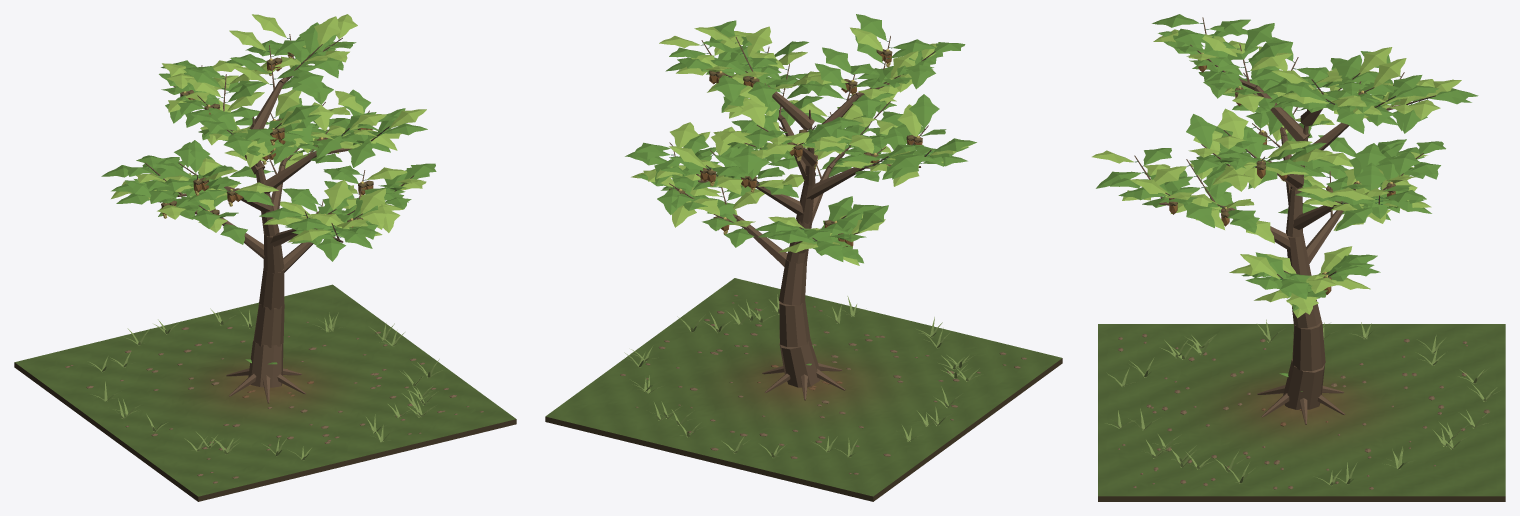
The model's file is oak-tree.glb.
The picture shows the model from 3 angles, left to right: view 1: azimuth 30°, elevation 25°; view 2: azimuth 150°, elevation 25°; view 3: azimuth 270°, elevation 25°; orthographic projection. The views are drawn at different scales.
Visible parts, largest first — view 1: Static_mesh, TreeTrunk_mesh, OakLeaves.033_mesh, OakLeaves.032_mesh, OakLeaves.025_mesh, OakLeaves.023_mesh, OakLeaves.011_mesh, OakLeaves.022_mesh, OakLeaves.003_mesh, OakLeaves.017_mesh, OakLeaves.021_mesh, OakLeaves.010_mesh (+25 smaller); view 2: Static_mesh, TreeTrunk_mesh, OakLeaves.030_mesh, OakLeaves.018_mesh, OakLeaves.028_mesh, OakLeaves.035_mesh, OakLeaves.019_mesh, OakLeaves.033_mesh, OakLeaves.015_mesh, OakLeaves.029_mesh, OakLeaves.025_mesh, OakLeaves.007_mesh (+24 smaller); view 3: Static_mesh, TreeTrunk_mesh, OakLeaves.029_mesh, OakLeaves.003_mesh, OakLeaves.023_mesh, OakLeaves.014_mesh, OakLeaves.035_mesh, OakLeaves.015_mesh, OakLeaves.021_mesh, OakLeaves.022_mesh, OakLeaves.010_mesh, OakLeaves.027_mesh (+26 smaller).
Boxes of the visible parts, box(x1,y1,x2,y2) form: Static_mesh: box(14, 284, 516, 501); TreeTrunk_mesh: box(226, 116, 305, 403); OakLeaves.033_mesh: box(289, 16, 341, 98); OakLeaves.032_mesh: box(225, 30, 316, 88); OakLeaves.025_mesh: box(183, 66, 266, 111); OakLeaves.023_mesh: box(341, 108, 427, 167); OakLeaves.011_mesh: box(285, 218, 382, 248); OakLeaves.022_mesh: box(326, 89, 397, 152); OakLeaves.003_mesh: box(377, 163, 436, 232); OakLeaves.017_mesh: box(152, 140, 222, 197); OakLeaves.021_mesh: box(298, 112, 386, 158); OakLeaves.010_mesh: box(316, 188, 385, 261); Static_mesh: box(545, 278, 1062, 501); TreeTrunk_mesh: box(762, 109, 845, 400); OakLeaves.030_mesh: box(850, 14, 935, 74); OakLeaves.018_mesh: box(882, 94, 946, 166); OakLeaves.028_mesh: box(802, 47, 896, 101); OakLeaves.035_mesh: box(659, 20, 750, 75); OakLeaves.019_mesh: box(882, 138, 976, 186); OakLeaves.033_mesh: box(694, 26, 781, 92); OakLeaves.015_mesh: box(634, 122, 712, 185); OakLeaves.029_mesh: box(852, 51, 922, 117); OakLeaves.025_mesh: box(731, 97, 792, 148); OakLeaves.007_mesh: box(768, 226, 863, 265); Static_mesh: box(1098, 324, 1505, 501); TreeTrunk_mesh: box(1257, 109, 1345, 424); OakLeaves.029_mesh: box(1192, 23, 1292, 80); OakLeaves.003_mesh: box(1240, 252, 1327, 314); OakLeaves.023_mesh: box(1186, 114, 1253, 191); OakLeaves.014_mesh: box(1354, 152, 1420, 223); OakLeaves.035_mesh: box(1281, 83, 1381, 133); OakLeaves.015_mesh: box(1328, 187, 1431, 230); OakLeaves.021_mesh: box(1212, 108, 1266, 188); OakLeaves.022_mesh: box(1207, 140, 1312, 185); OakLeaves.010_mesh: box(1118, 179, 1224, 229); OakLeaves.027_mesh: box(1388, 79, 1478, 133).
Size of the model in its own units: 3.64 by 3.62 by 3.56.
